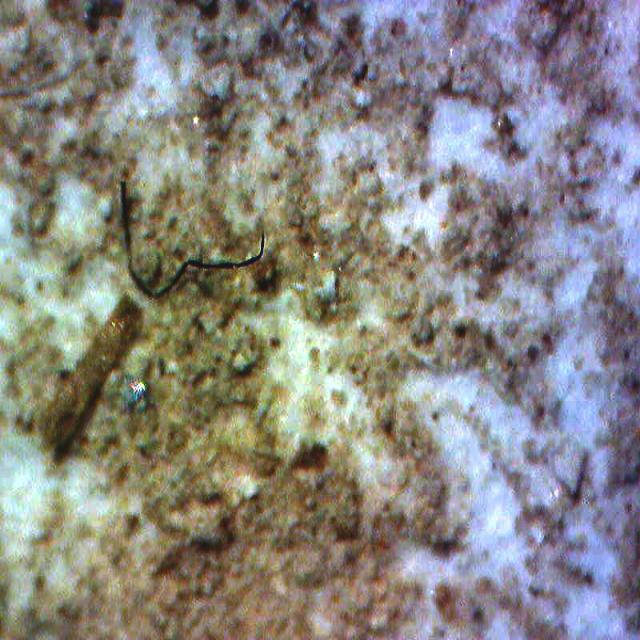microplastic: (87, 180, 270, 328)
